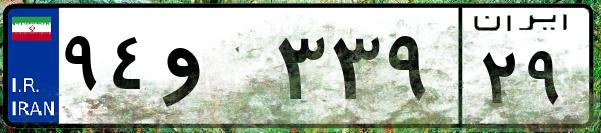2: (475, 38, 525, 113)
3: (270, 28, 330, 110), (330, 28, 385, 110)
4: (110, 28, 158, 98)
9: (385, 28, 445, 110), (57, 26, 110, 100), (525, 38, 570, 115)
و: (158, 20, 270, 120)
